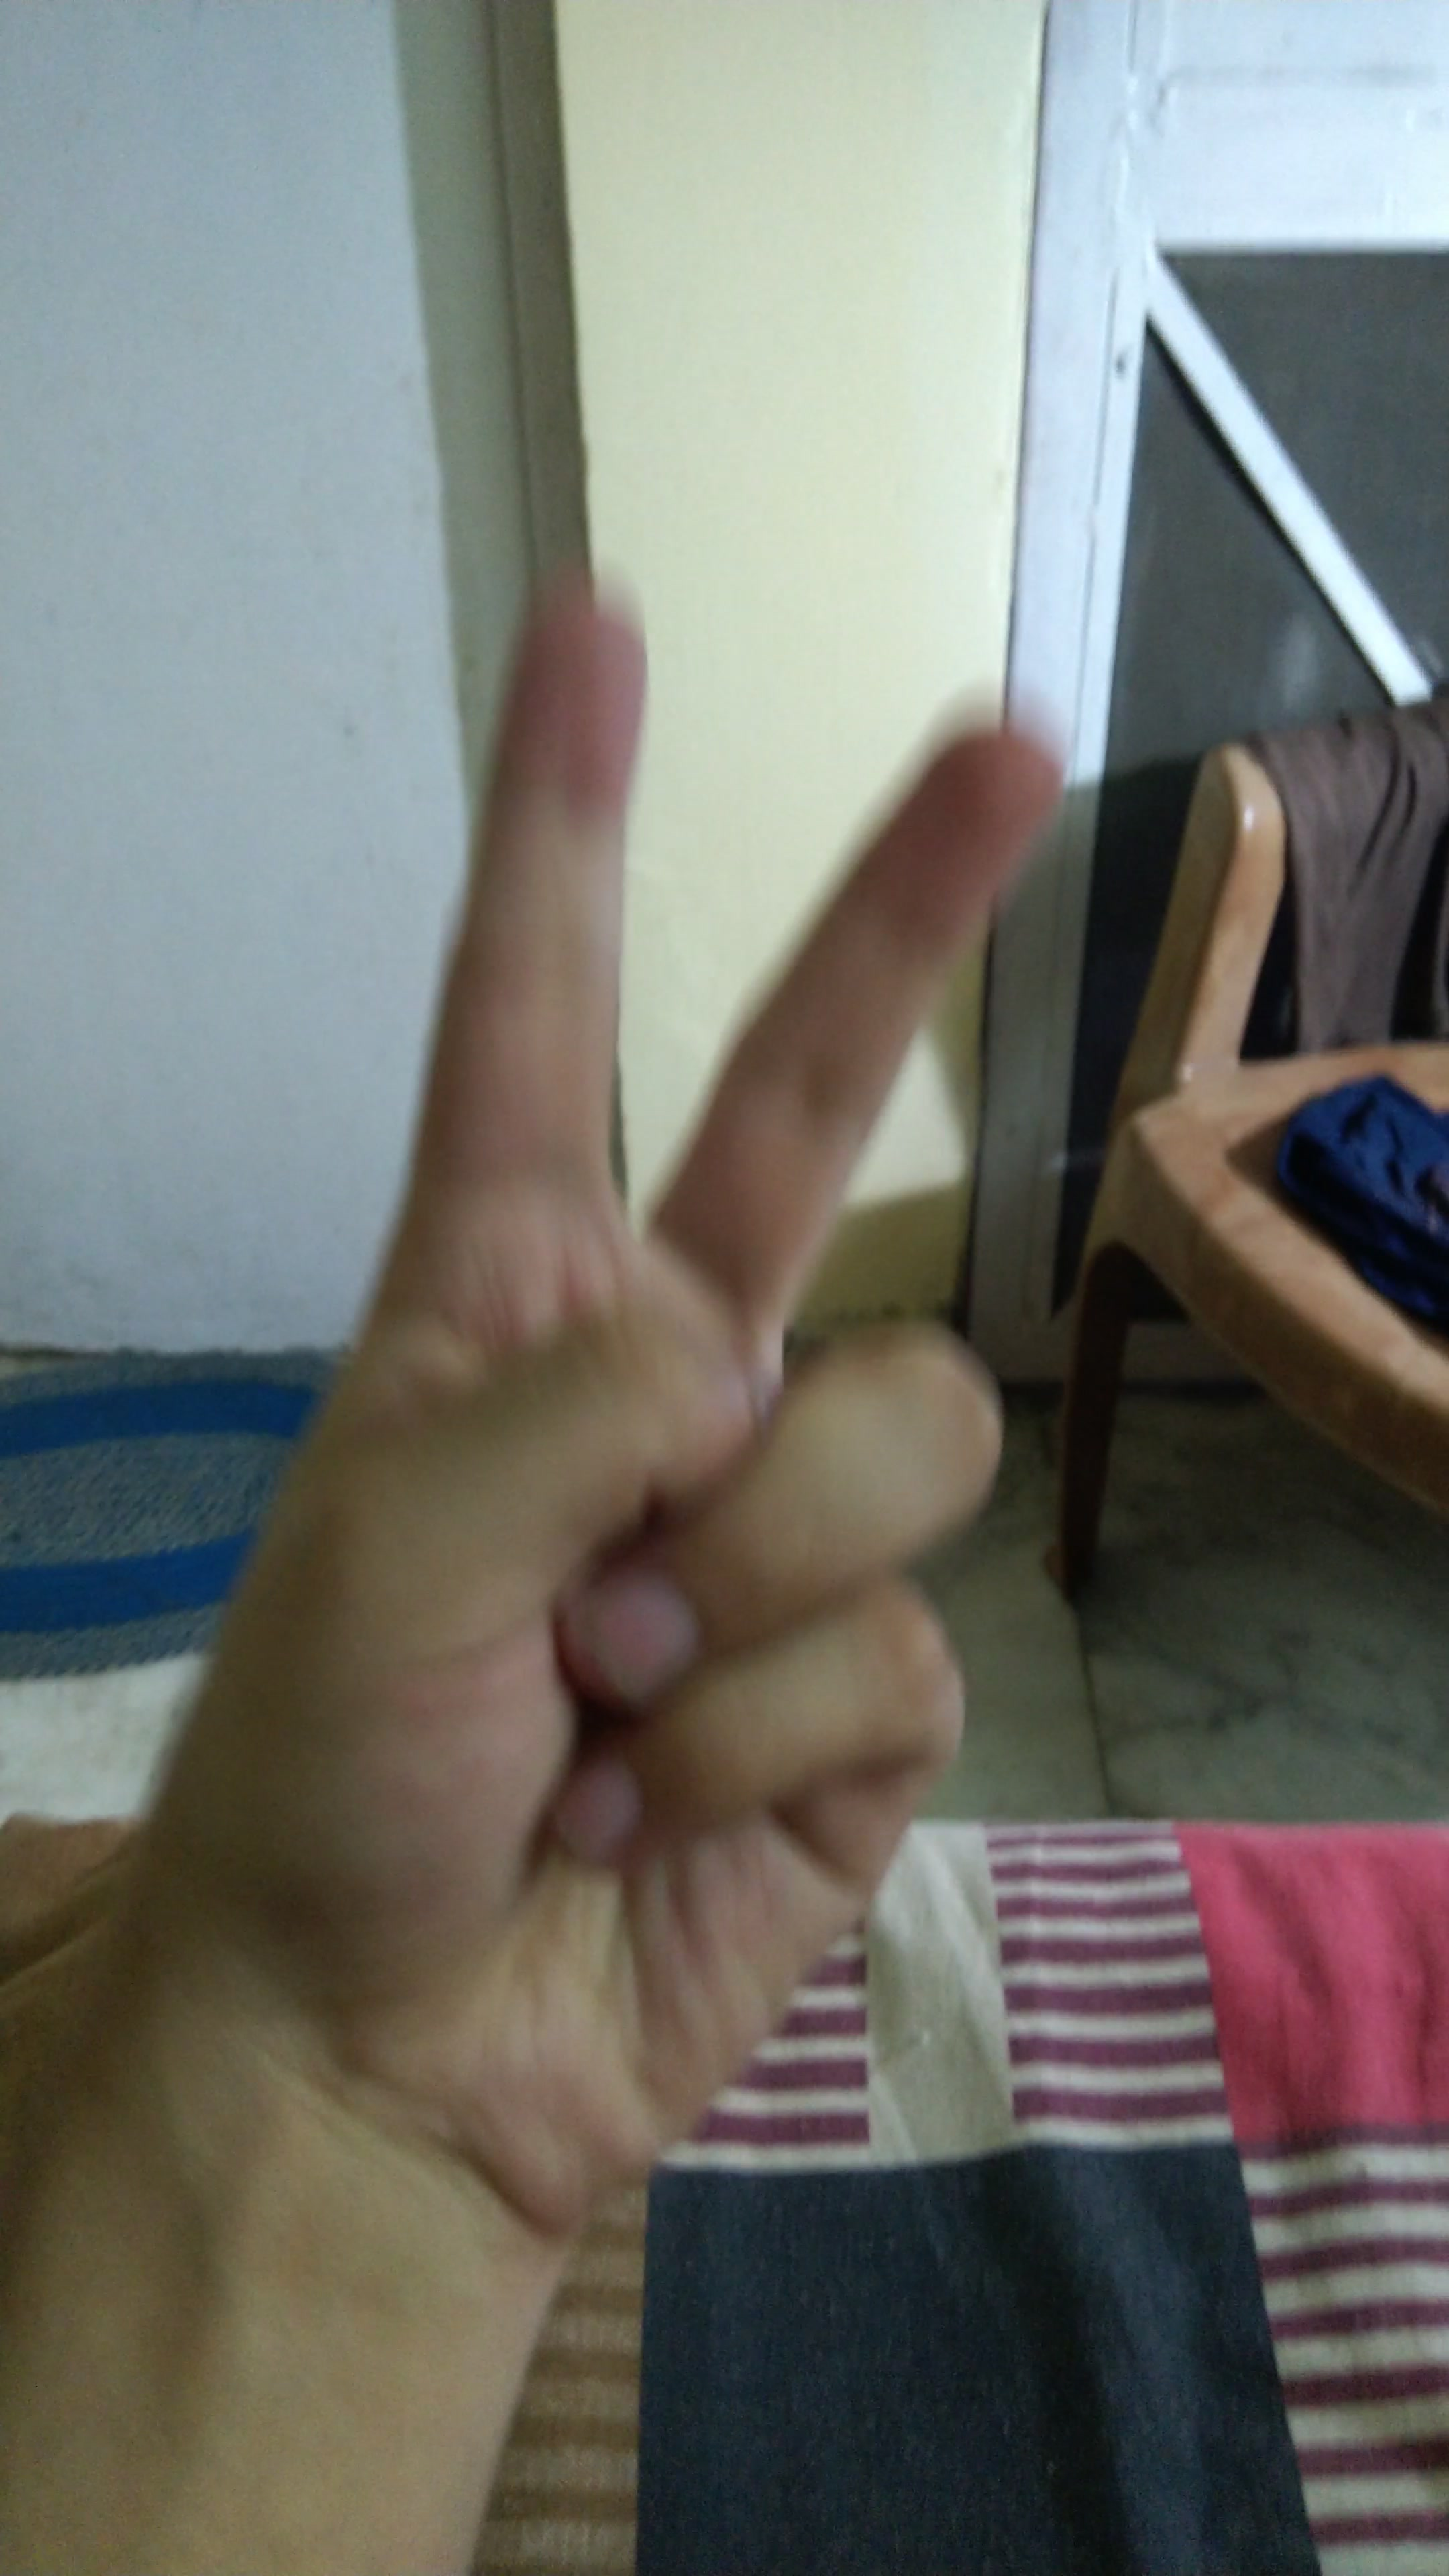hand: (65, 550, 1093, 2249)
